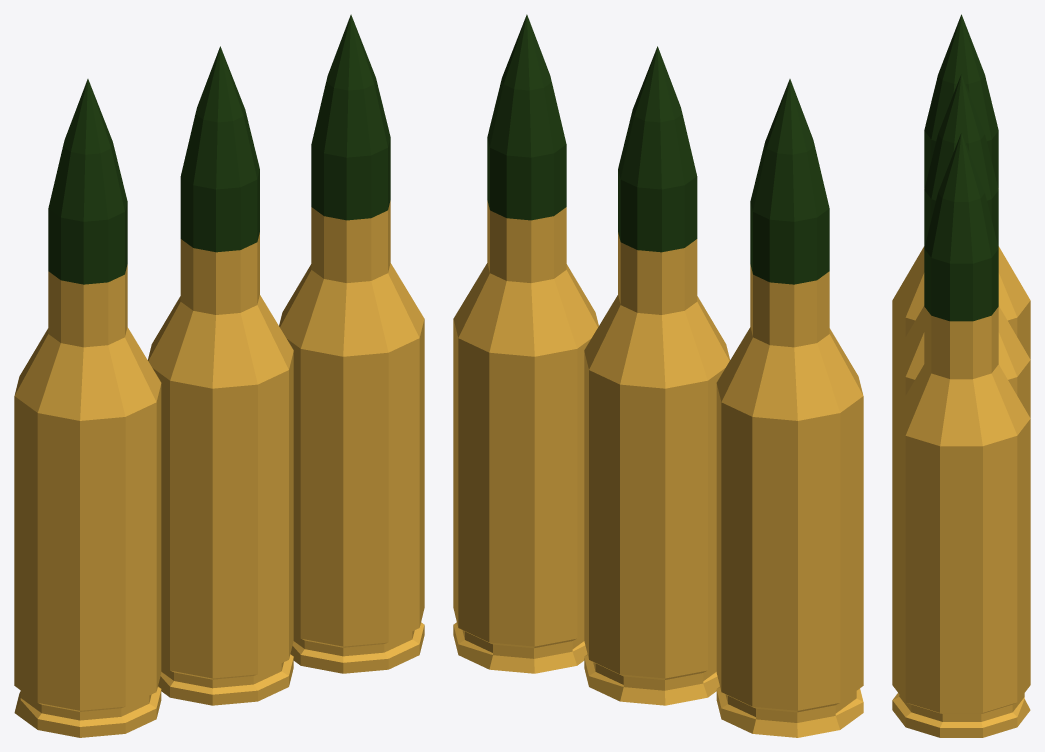
File: bullets.fbx
The picture shows the model from 3 angles, left to right: view 1: azimuth 30°, elevation 25°; view 2: azimuth 150°, elevation 25°; view 3: azimuth 270°, elevation 25°; orthographic projection. The views are drawn at different scales.
Visible parts, largest first — view 1: Bullet.002, Bullet, Bullet.001; view 2: Bullet.002, Bullet, Bullet.001; view 3: Bullet.001, Bullet.002, Bullet.
Part boxes in pixels (x1,y1,x2,y2): Bullet.002: [14, 79, 161, 737]; Bullet: [148, 46, 293, 705]; Bullet.001: [279, 14, 424, 673]; Bullet.002: [716, 79, 863, 737]; Bullet: [584, 46, 729, 705]; Bullet.001: [453, 14, 598, 673]; Bullet.001: [892, 132, 1030, 737]; Bullet.002: [892, 14, 1030, 359]; Bullet: [892, 73, 1030, 417].
Bounding box in the file's own units: 5.95 × 9.23 × 2.
